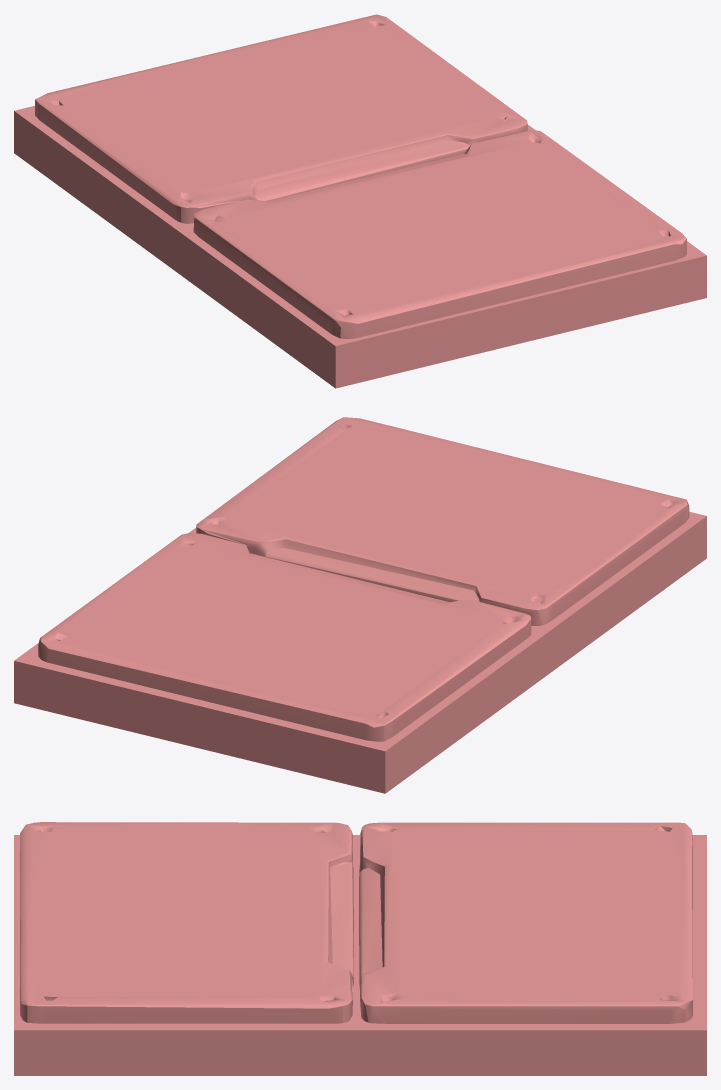
The model's file is ComplexWall_3x2_02_Final.fbx.
The picture shows the model from 3 angles, top to bottom: view 1: azimuth 30°, elevation 25°; view 2: azimuth 150°, elevation 25°; view 3: azimuth 270°, elevation 25°; orthographic projection. The views are drawn at different scales.
Visible parts, largest first — view 1: Final_ComplexWall_3x2_02; view 2: Final_ComplexWall_3x2_02; view 3: Final_ComplexWall_3x2_02.
Part boxes in pixels (x1,y1,x2,y2): Final_ComplexWall_3x2_02: (14, 14, 706, 388); Final_ComplexWall_3x2_02: (14, 417, 706, 793); Final_ComplexWall_3x2_02: (14, 822, 706, 1075).
Size of the model in its own units: 200 by 30.67 by 300.
